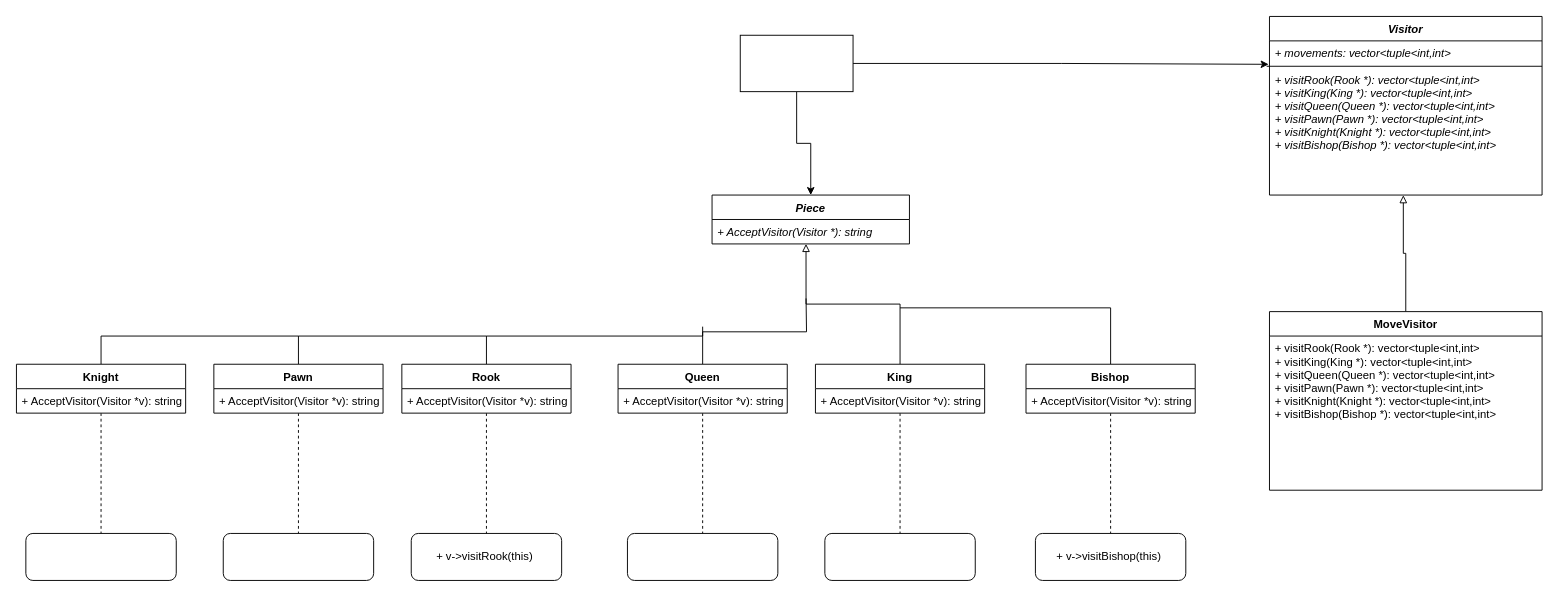
Image size: 1559x597. Some labels were removed from this diagram. The centre of each missing label's shape, as x and y in pixels:
+ v->visitKing(this): (899,556)
+ v->visitKnight(this): (100,556)
+ v->visitPawn(this): (298,556)
+ v->visitQueen(this): (702,556)
Client: (796,63)
